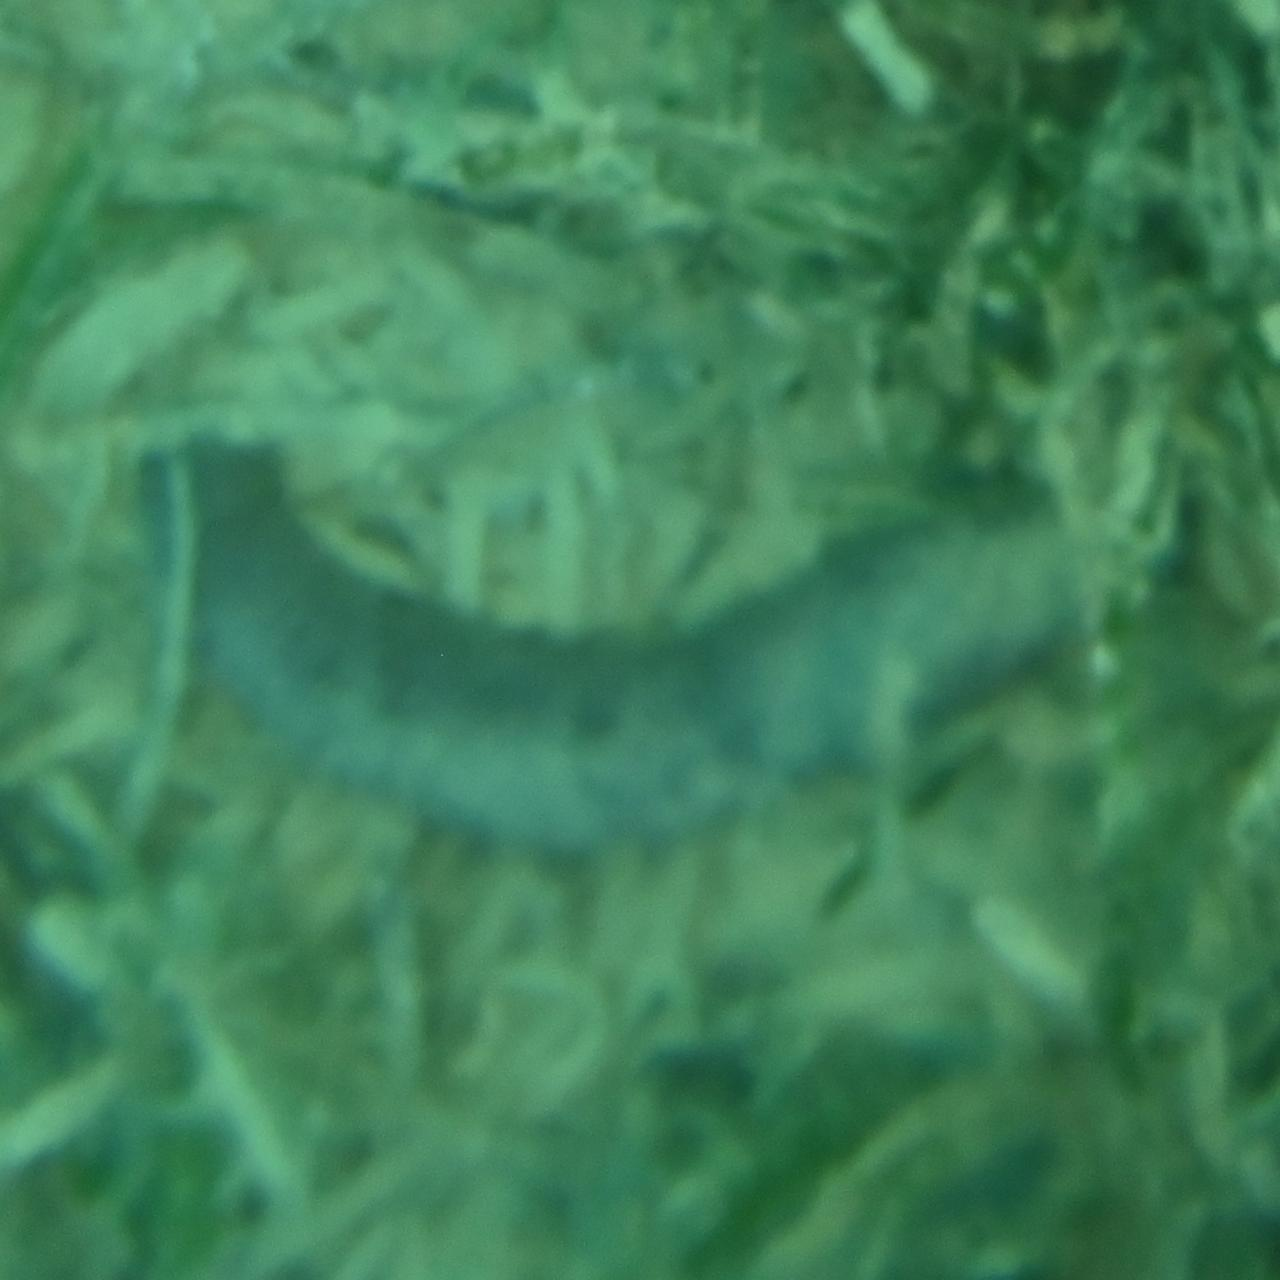Holothuria tubulosa: (125, 406, 1155, 874)
